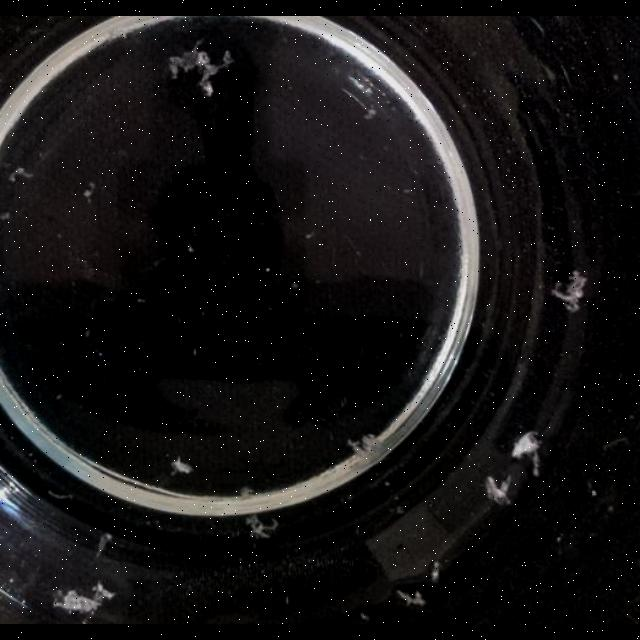Fibre: (168, 42, 234, 96), (53, 583, 111, 617), (552, 270, 588, 312), (511, 431, 541, 461), (347, 432, 381, 458), (245, 515, 279, 541), (486, 475, 512, 505), (398, 589, 427, 607), (95, 534, 114, 560), (170, 457, 194, 477), (7, 166, 33, 184), (82, 182, 96, 204), (431, 561, 442, 583), (0, 212, 10, 220)
microbeads: (362, 106, 376, 120), (187, 242, 195, 254), (136, 296, 146, 304), (84, 329, 92, 339), (304, 232, 314, 240), (402, 188, 412, 196), (291, 282, 299, 290), (591, 489, 597, 496), (265, 267, 271, 273)
